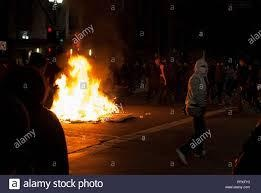fire: (48, 51, 117, 122)
